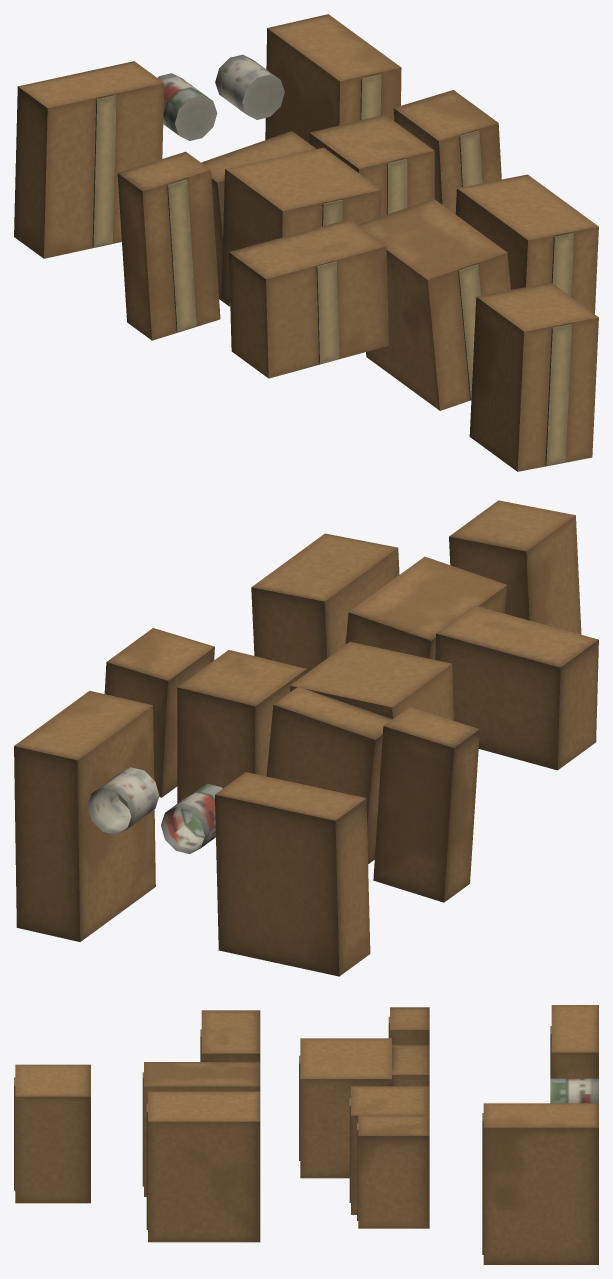
File: goods_storage_2.obj
The picture shows the model from 3 angles, top to bottom: view 1: azimuth 30°, elevation 25°; view 2: azimuth 150°, elevation 25°; view 3: azimuth 270°, elevation 25°; orthographic projection. The views are drawn at different scales.
Bounding box in the file's own units: 0.885 × 0.4417 × 1.66.
Materials: 1 (1 with a texture image).
